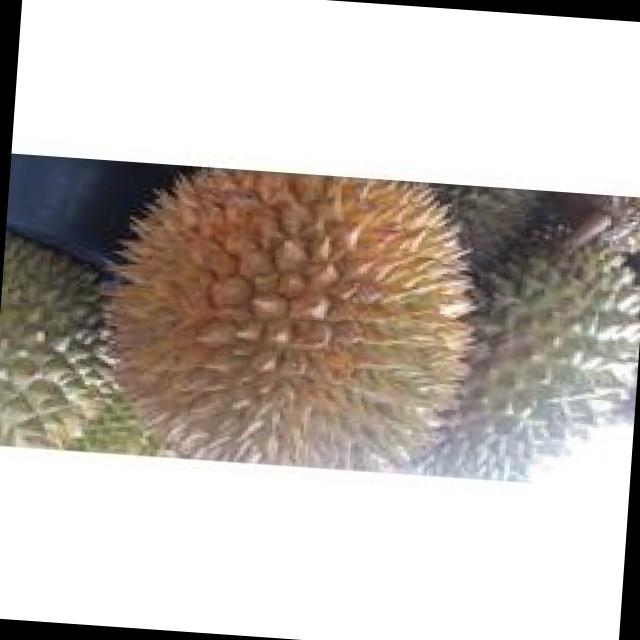fruit: (430, 194, 640, 475), (0, 208, 142, 452)
